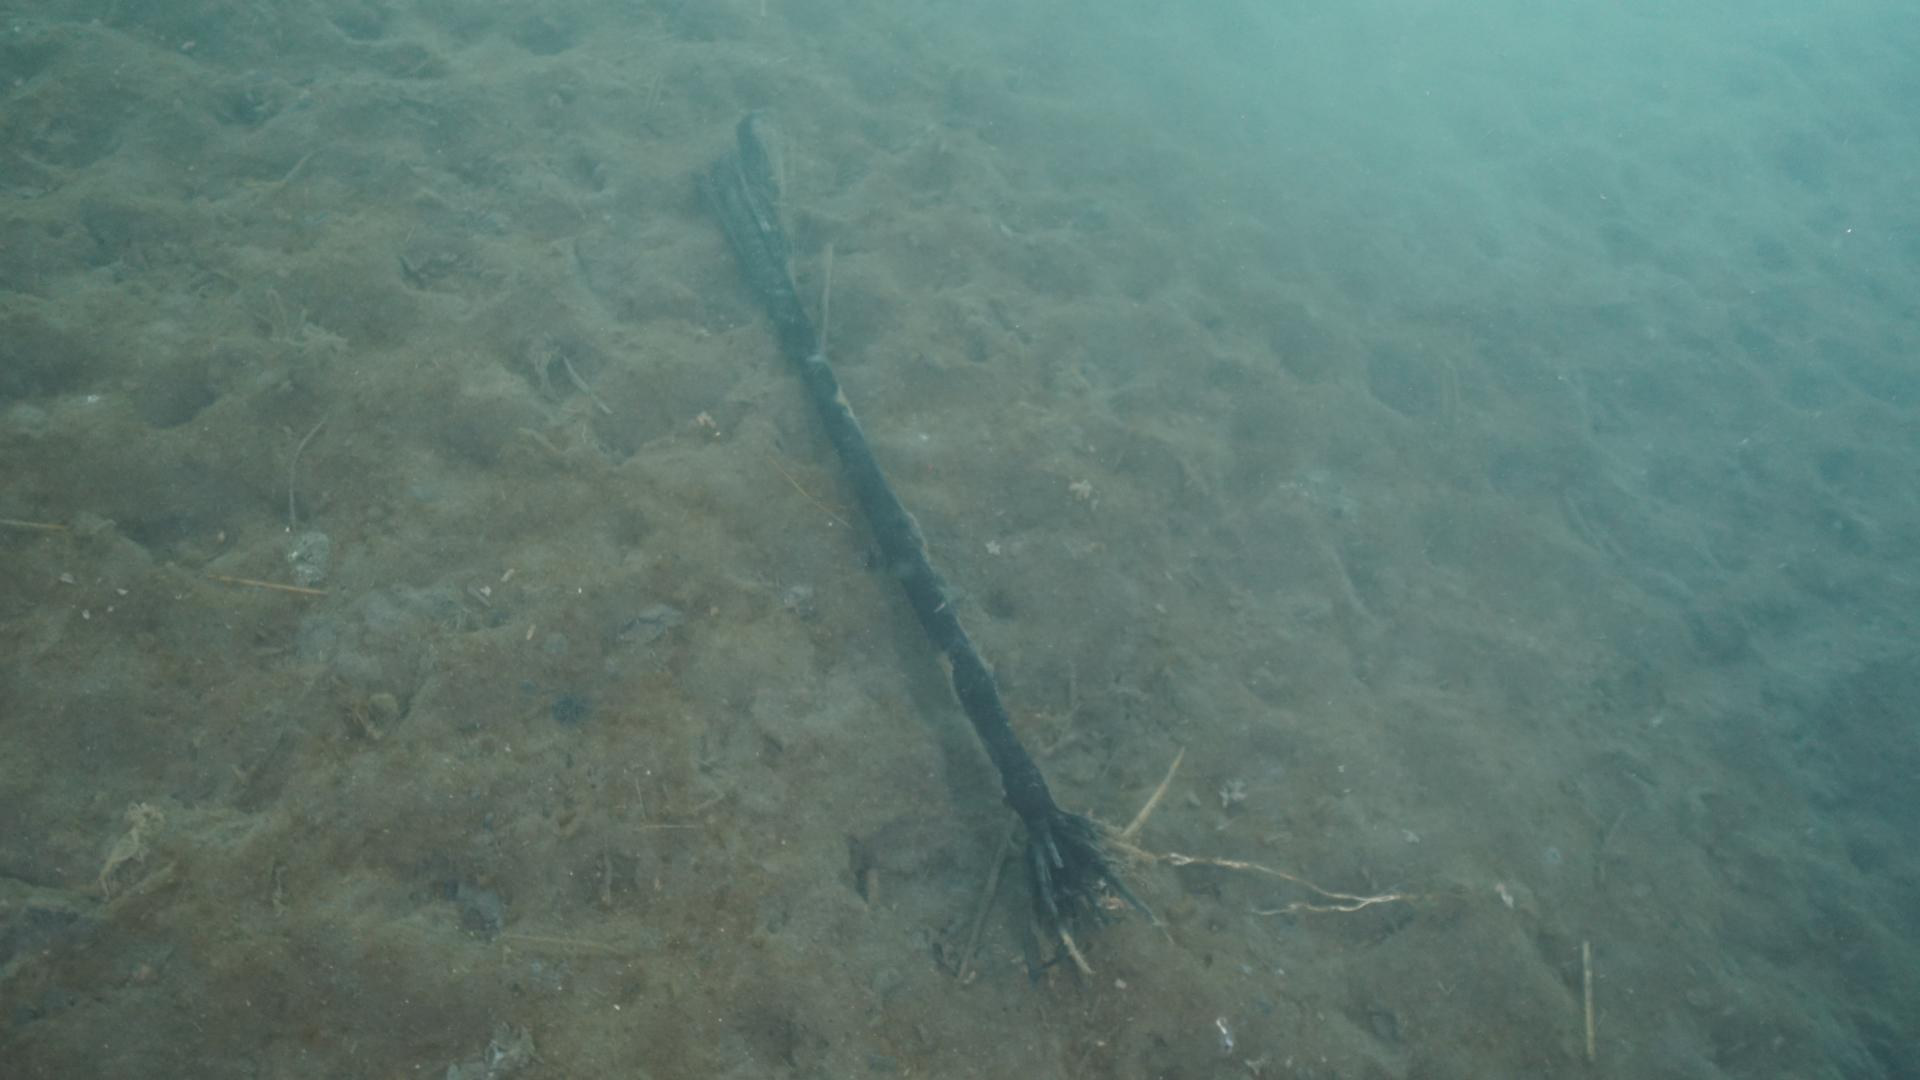wood: (696, 117, 1162, 975)
